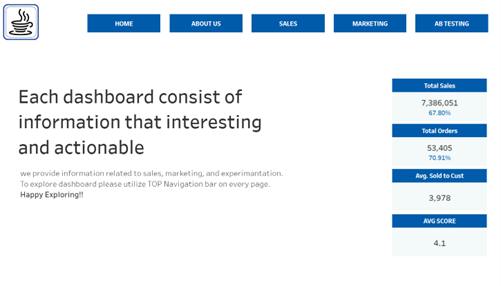

The dashboard page shown, as its layout file describes it:
{"tool":"tableau","page":{"name":"ABOUT US","canvas":[1366,768],"ordinal":1},"visuals":[{"type":"image","param":"C:/Users/artanggoro/Downloads/PACMANN PLBI 2 - JAVA TEAM ECOMMERCE.twb Files/Ima","box":[0,0,1366,768]},{"type":"dashboard-object","box":[250,33,216,72]},{"type":"dashboard-object","box":[466,33,216,72]},{"type":"dashboard-object","box":[682,33,216,72]},{"type":"dashboard-object","box":[898,33,215,72]},{"type":"dashboard-object","box":[1113,33,215,72]},{"type":"text","box":[79,202,868,248]},{"type":"worksheet","title":"Total Sales","mark":"Automatic","box":[1060,211,257,119]},{"type":"worksheet","title":"Total Order","mark":"Automatic","box":[1060,330,257,119]},{"type":"text","box":[85,433,760,117]},{"type":"worksheet","title":"AVG Sold to Cust","mark":"Automatic","box":[1060,449,257,119]},{"type":"worksheet","title":"AVG Review Scor","mark":"Automatic","box":[1060,568,257,119]}]}

Visuals, with their boxes in screenshot pixels (x1, y1, x2, y2), scaled from the page's 1366x768 canvas onto the 501x286 screenshot:
image: bbox(0, 0, 500, 285)
dashboard-object: bbox(92, 12, 171, 39)
dashboard-object: bbox(171, 12, 250, 39)
dashboard-object: bbox(250, 12, 329, 39)
dashboard-object: bbox(329, 12, 408, 39)
dashboard-object: bbox(408, 12, 487, 39)
text: bbox(29, 75, 347, 168)
"Total Sales" worksheet: bbox(389, 79, 483, 123)
"Total Order" worksheet: bbox(389, 123, 483, 167)
text: bbox(31, 161, 310, 205)
"AVG Sold to Cust" worksheet: bbox(389, 167, 483, 212)
"AVG Review Scor" worksheet: bbox(389, 212, 483, 256)
